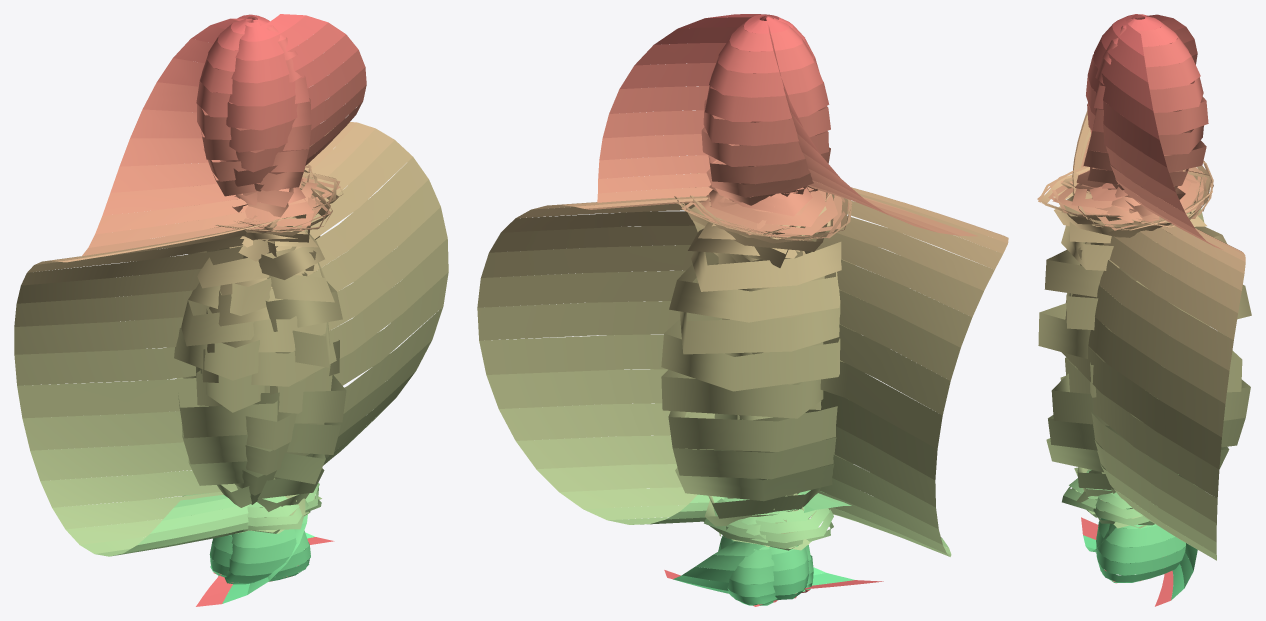
The model's file is NatalieCampos_Obj1.glb.
3 views of the same model, side by side, from view 1: azimuth 30°, elevation 25°; view 2: azimuth 150°, elevation 25°; view 3: azimuth 270°, elevation 25° (orthographic). The views are drawn at different scales.
Parts seen in each view (by area): view 1: Natalie_Campos-GalObj4; view 2: Natalie_Campos-GalObj4; view 3: Natalie_Campos-GalObj4.
Boxes of the visible parts, left/top/right/bottom form: Natalie_Campos-GalObj4: left=14, top=14, right=448, bottom=606; Natalie_Campos-GalObj4: left=477, top=14, right=1008, bottom=606; Natalie_Campos-GalObj4: left=1037, top=14, right=1251, bottom=606.
Bounding box in the file's own units: 68.8 × 79.17 × 28.2.
